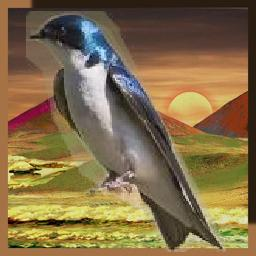Swallow: (26, 12, 226, 253)
